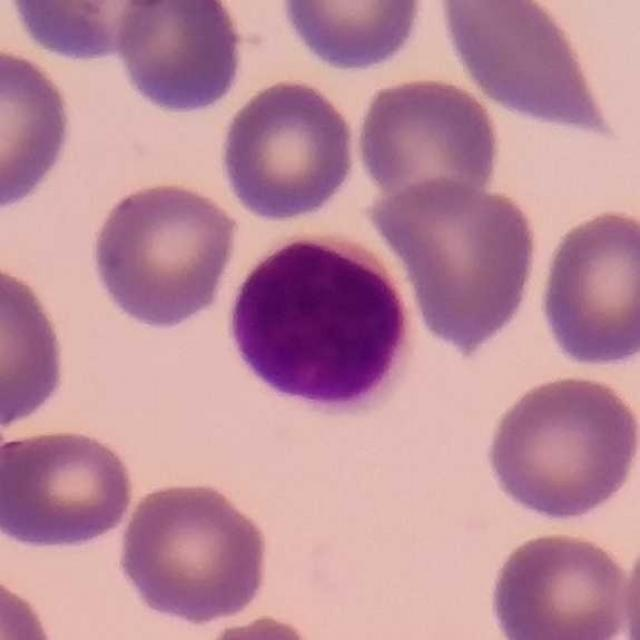Lymphocyte: (220, 229, 421, 422)
RBC: (366, 174, 542, 354), (430, 0, 626, 137), (481, 371, 640, 524), (88, 177, 241, 333), (114, 476, 272, 627), (216, 74, 361, 225), (352, 74, 503, 210), (533, 204, 640, 372), (0, 424, 139, 553), (486, 527, 636, 640), (110, 0, 248, 117), (0, 44, 77, 218), (0, 256, 71, 433), (276, 0, 429, 75), (2, 0, 176, 65), (179, 611, 333, 640), (0, 570, 60, 640), (617, 524, 640, 640)
